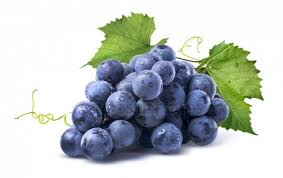Black grapes: (86, 57, 206, 149)
